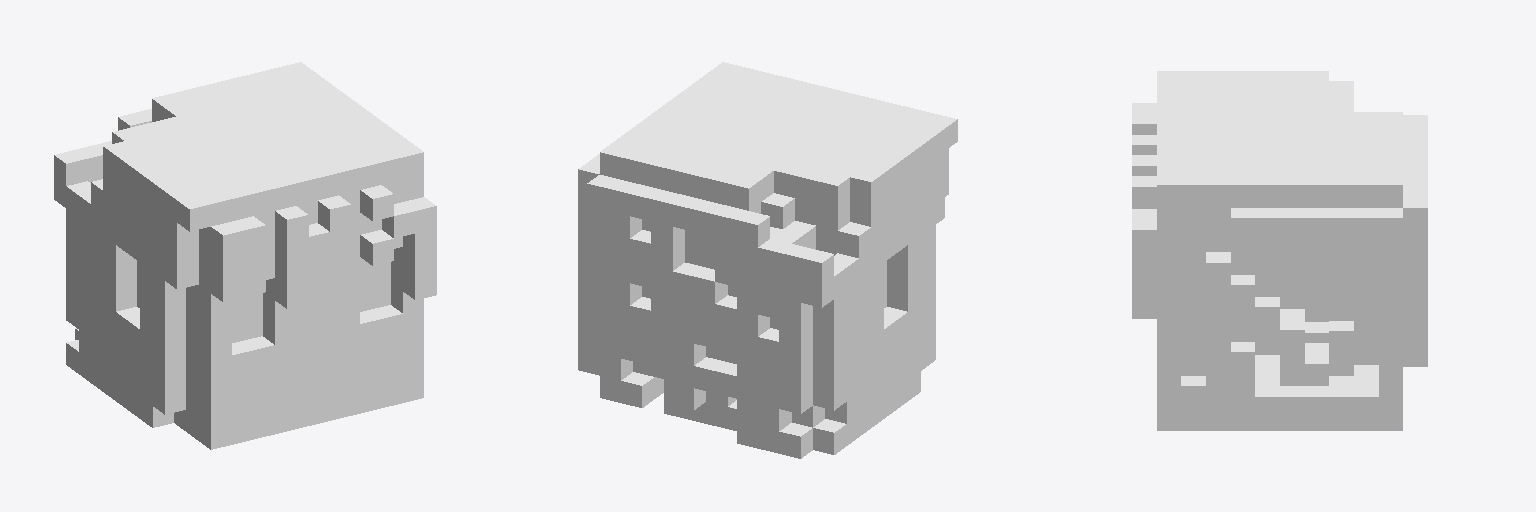
The model's file is fastZombie-0.obj.
3 renders of one model, left to right at view 1: azimuth 30°, elevation 25°; view 2: azimuth 150°, elevation 25°; view 3: azimuth 270°, elevation 25°, orthographic.
Visible parts, largest first — view 1: object 1; view 2: object 1; view 3: object 1.
Part boxes in pixels (bbox=[...]): object 1: bbox=[54, 62, 436, 449]; object 1: bbox=[578, 62, 957, 458]; object 1: bbox=[1132, 71, 1427, 430].
Bounding box in the file's own units: 1.2 × 1.1 × 1.2.